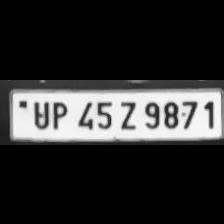1: (198, 97, 218, 128)
4: (72, 96, 94, 130)
5: (92, 96, 114, 130)
7: (180, 97, 198, 129)
8: (159, 97, 179, 128)
9: (140, 97, 162, 129)
P: (47, 98, 69, 130)
U: (28, 97, 50, 128)
Z: (116, 96, 138, 130)
